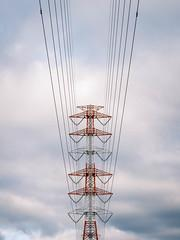power_tower: (65, 102, 112, 240)
